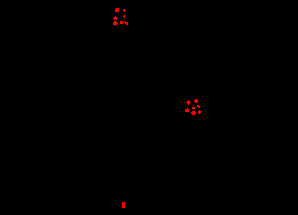Target: (113, 21, 118, 26), (186, 100, 191, 105), (191, 111, 196, 115), (122, 202, 125, 208), (115, 8, 119, 12), (113, 16, 117, 20), (194, 99, 198, 103), (185, 108, 189, 112), (124, 22, 128, 25), (198, 110, 201, 114), (123, 9, 126, 12), (120, 21, 123, 24), (197, 105, 200, 108), (192, 107, 195, 110), (123, 15, 125, 18)
